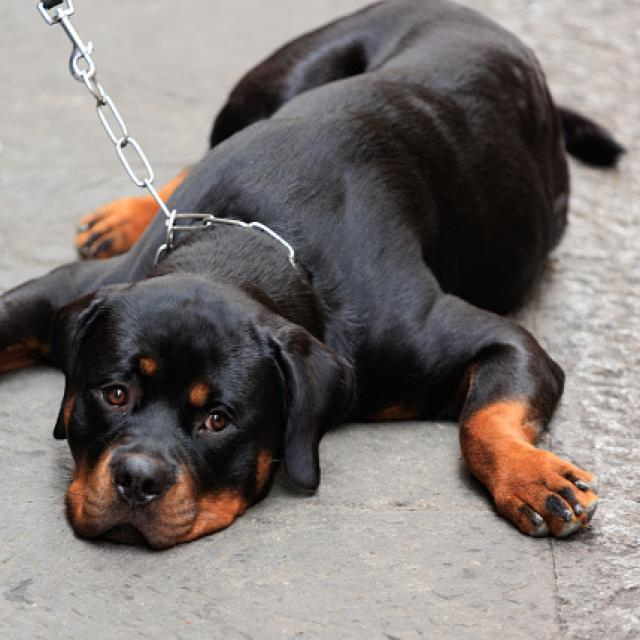rottweiler: (35, 255, 363, 578)
